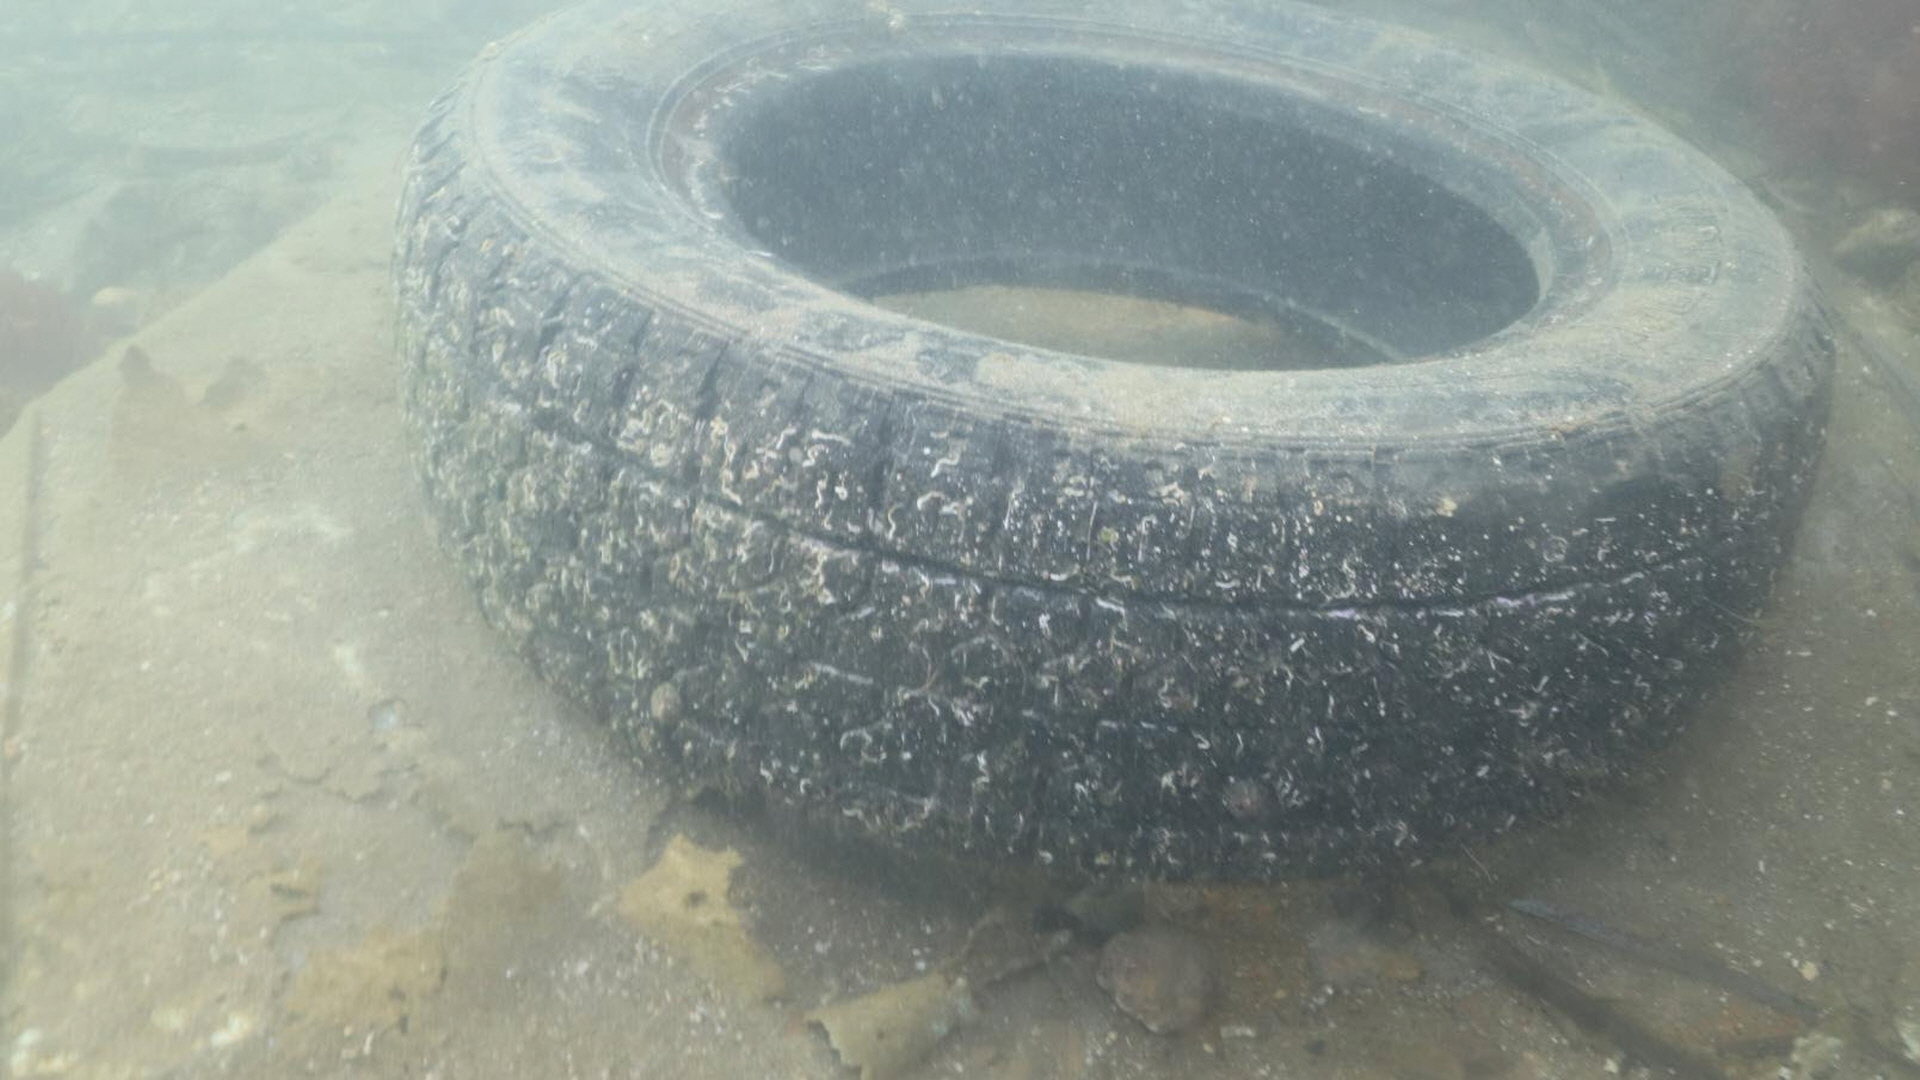tire: (392, 0, 1840, 898)
